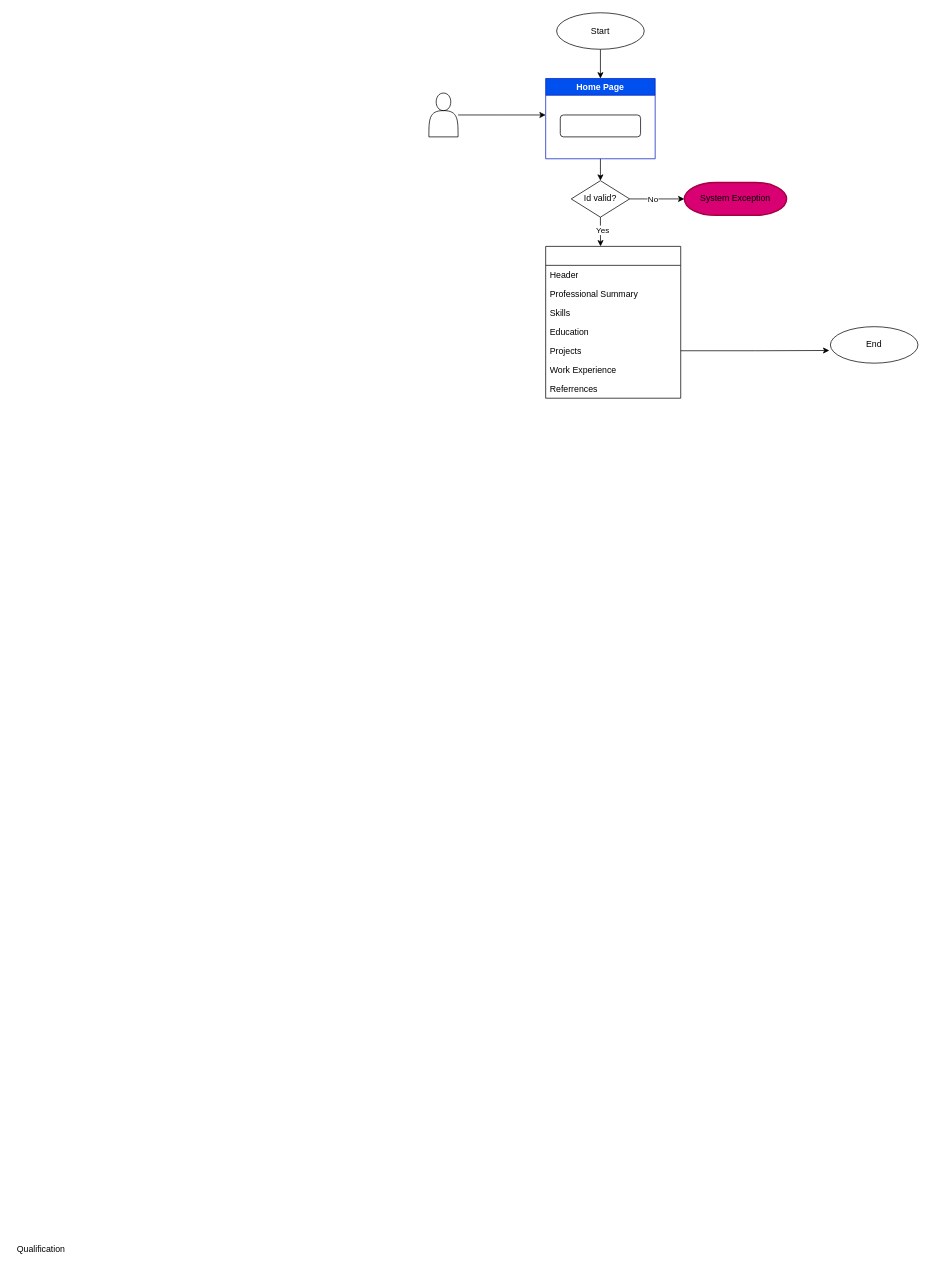
Image size: 931x1276. Some labels were removed from this diagram. Each missing label, with the box of its shape:
Resume Web Application: (545, 246, 681, 398)
User Enter Access ID: (560, 114, 641, 137)
